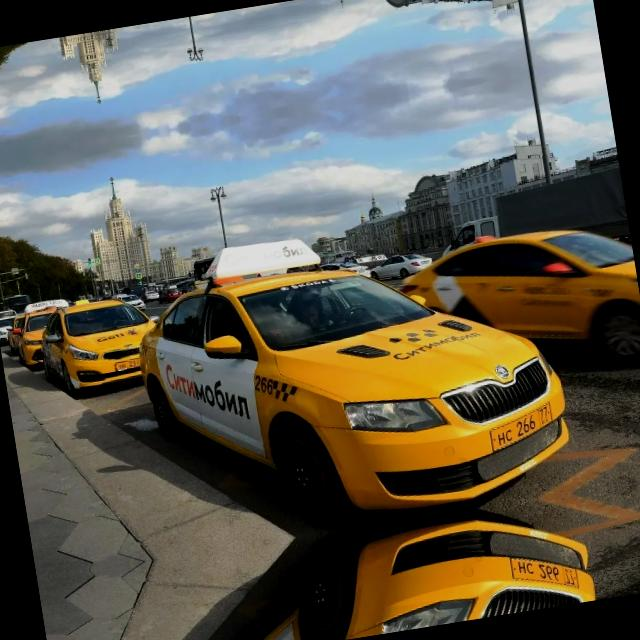taxi: (481, 393, 562, 459), (504, 539, 584, 605), (110, 352, 142, 374)
